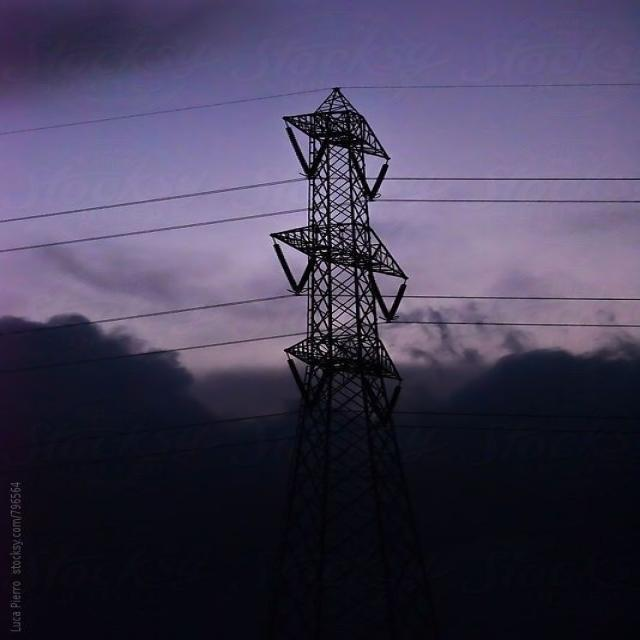non-critical vegetation: (252, 85, 454, 624)
